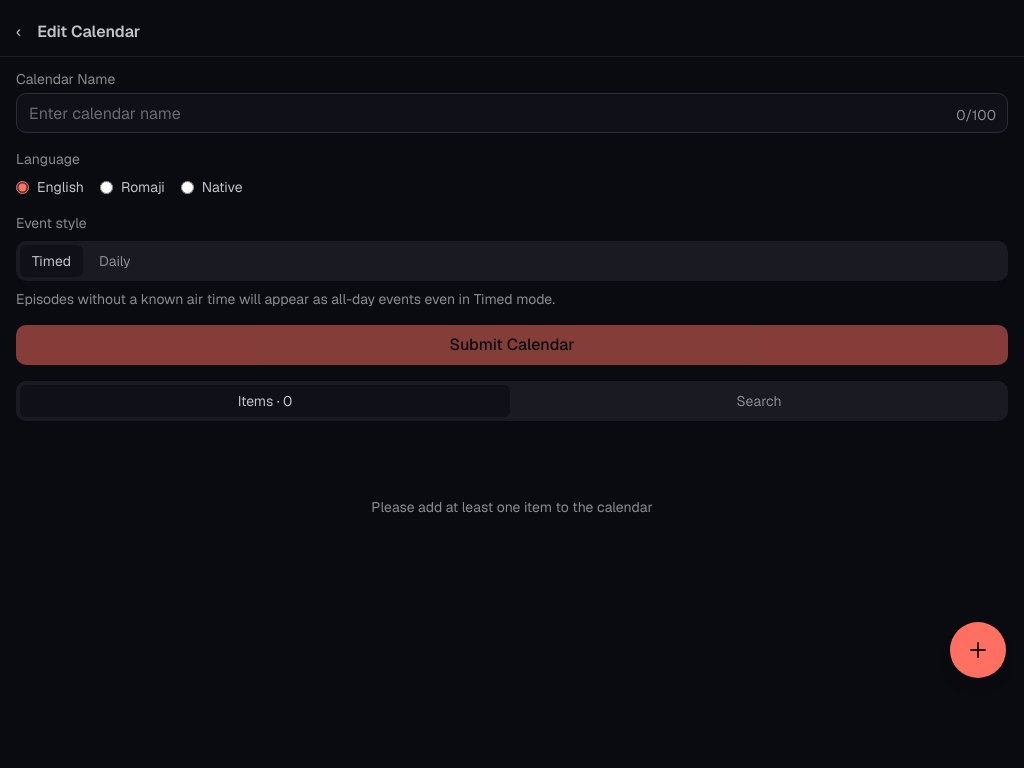
it: CalendarEditorViewMobile › FAB click switches to the Search tab
This screenshot has width=1024, height=768.
Click the button with test id "editor-fab": (978, 650) [950, 622, 1006, 678]
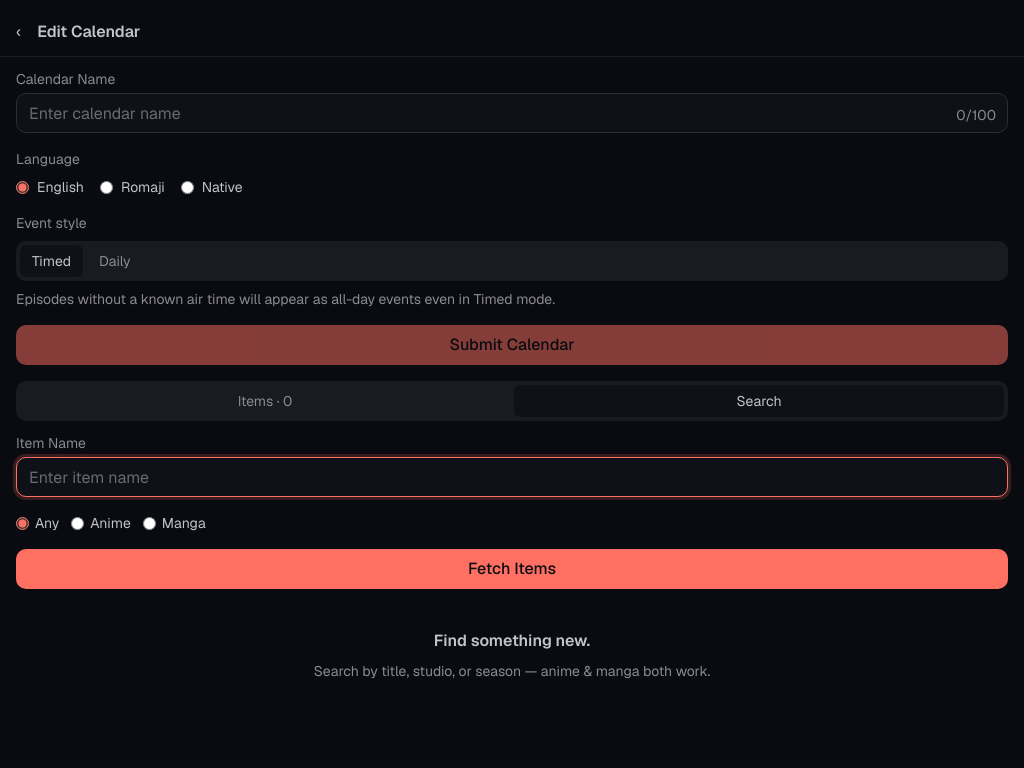
expect the element with test id "search-empty-state" is shown: met, box [314, 630, 710, 680]
